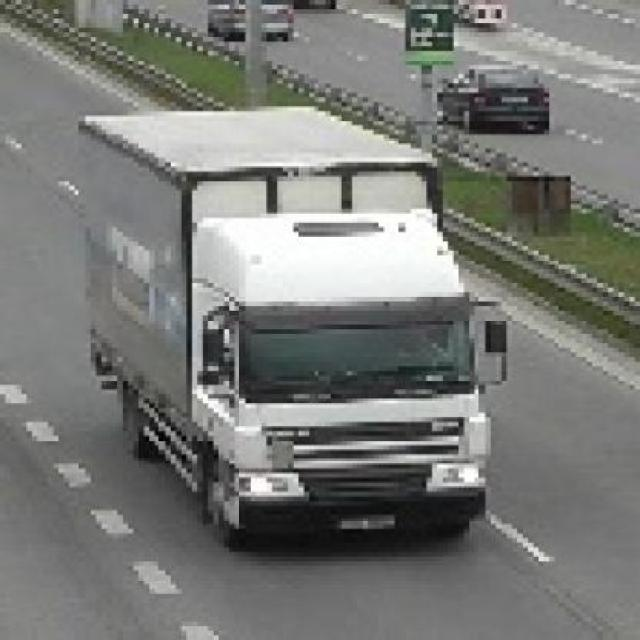truck: (86, 93, 513, 549)
